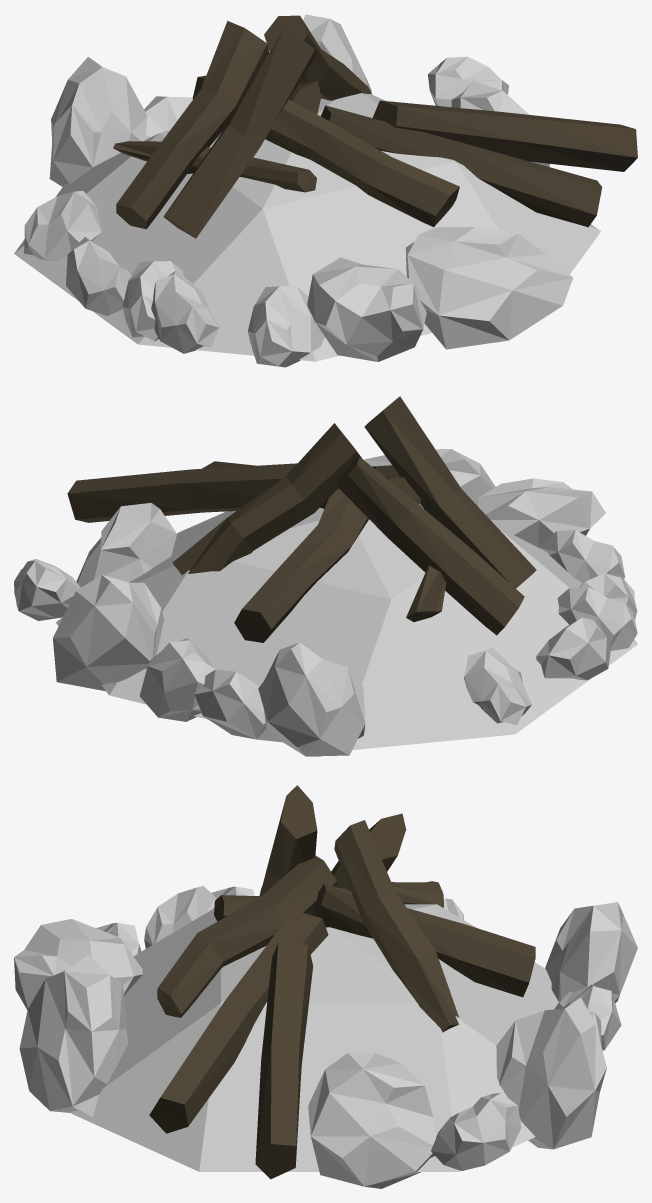
File: CAMPFIRE_NW_FIREPLACE_01.OBJ
3 views of the same model, one above another, from view 1: azimuth 30°, elevation 25°; view 2: azimuth 150°, elevation 25°; view 3: azimuth 270°, elevation 25° (orthographic). The views are drawn at different scales.
Parts seen in each view (by area): view 1: CAMPFIRE_NW_FIREPLACE_01; view 2: CAMPFIRE_NW_FIREPLACE_01; view 3: CAMPFIRE_NW_FIREPLACE_01.
Part boxes in pixels (x1,y1,x2,y2): CAMPFIRE_NW_FIREPLACE_01: (14, 14, 637, 367); CAMPFIRE_NW_FIREPLACE_01: (14, 396, 637, 756); CAMPFIRE_NW_FIREPLACE_01: (14, 785, 637, 1188).
Size of the model in its own units: 2.02 by 0.8994 by 1.88.
